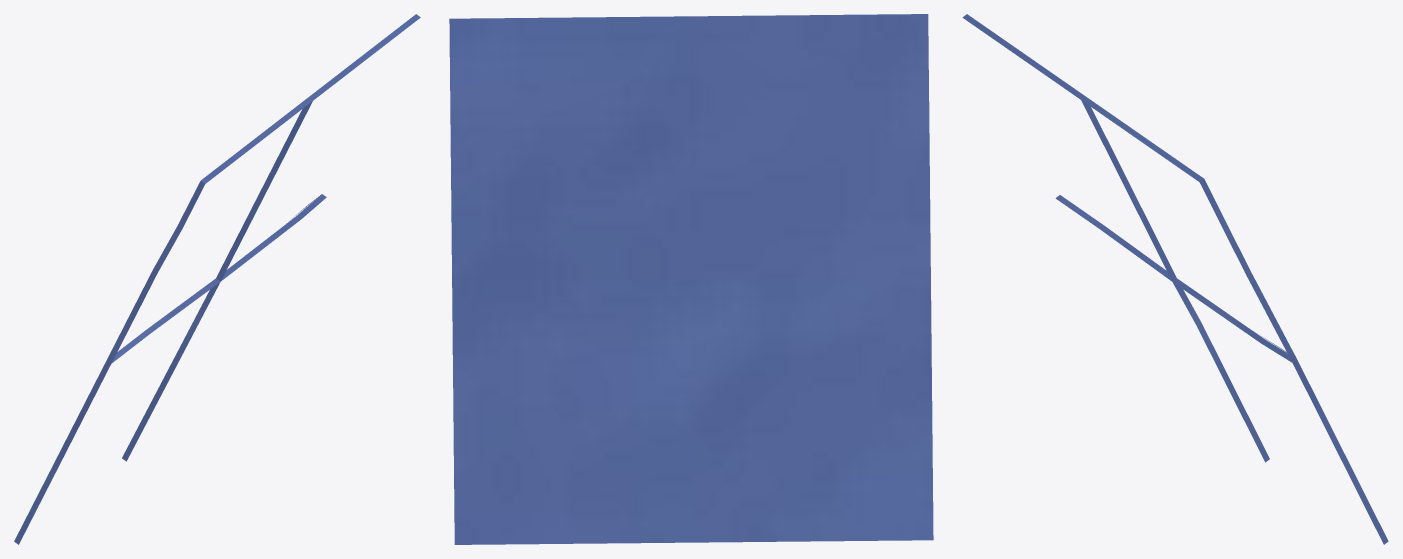
3 renders of one model, left to right at view 1: azimuth 30°, elevation 25°; view 2: azimuth 150°, elevation 25°; view 3: azimuth 270°, elevation 25°, orthographic. The views are drawn at different scales.
Bounding box in the file's own units: 9830 × 8864 × 8302.
Materials: 1 (1 with a texture image).
